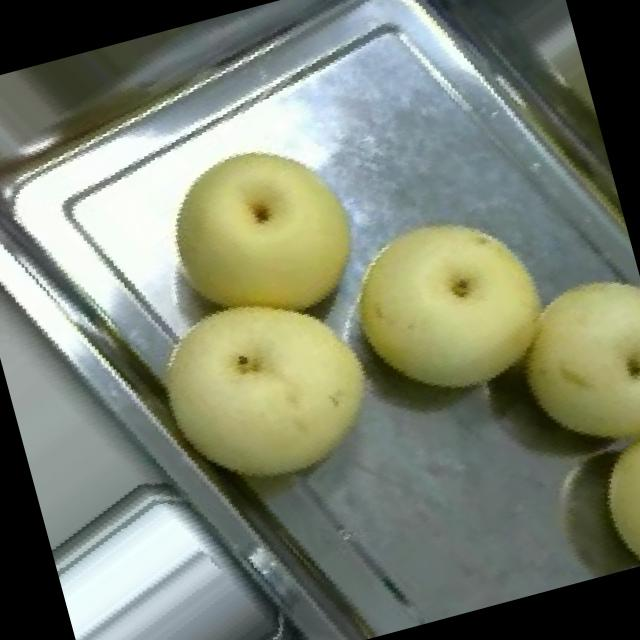Fruit: (117, 244, 416, 536), (124, 102, 399, 366), (315, 175, 583, 437), (477, 245, 640, 475), (570, 426, 640, 575)
